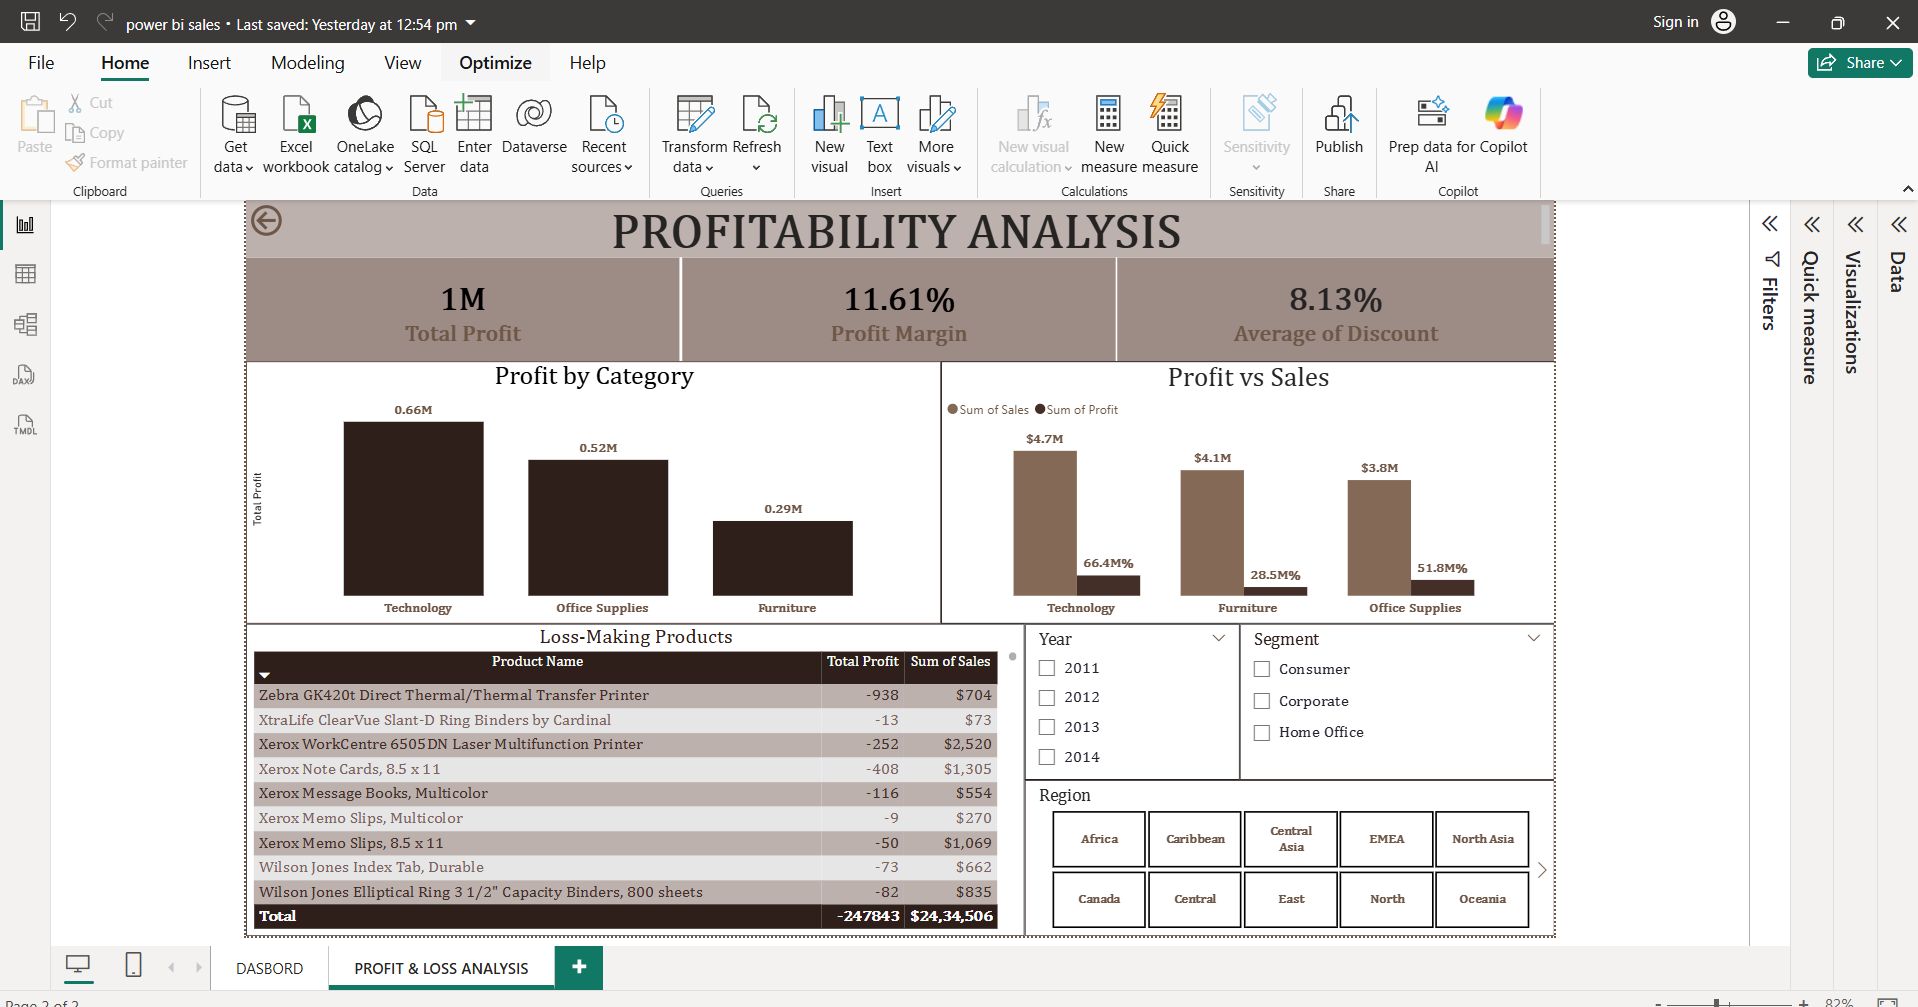

The dashboard page shown, as its layout file describes it:
{"tool":"powerbi","page":{"name":"PROFIT & LOSS ANALYSIS","canvas":[1280,720],"ordinal":1},"visuals":[{"type":"textbox","box":[0,0,1280.3,56.3],"z":0},{"type":"card","fields":{"Values":["Super_store.Total Profit"]},"box":[0,56.3,424.3,101.5],"z":1000},{"type":"card","fields":{"Values":["Super_store.Profit Margin"]},"box":[426.8,56.3,424.3,101.5],"z":2000},{"type":"card","fields":{"Values":["Avg(Super_store.Discount)"]},"box":[852.3,56.3,428,101.5],"z":3000},{"type":"columnChart","title":" Profit by Category","fields":{"Category":["Super_store.Category"],"Y":["Super_store.Total Profit"]},"box":[0,157.7,679.9,256.8],"z":4000},{"type":"clusteredColumnChart","title":"Profit vs Sales","fields":{"Category":["Super_store.Category"],"Y":["Sum(Super_store.Sales)","Sum(Super_store.Profit)"]},"box":[679.9,157.7,600.4,256.8],"z":5000},{"type":"tableEx","title":"Loss-Making Products","fields":{"Values":["Super_store.Product_Name","Super_store.Total Profit","Sum(Super_store.Sales)","select"]},"box":[0,414.5,761.8,305.7],"z":6000},{"type":"actionButton","box":[0,0,100,40],"z":7000},{"type":"slicer","fields":{"Values":["Super_store.Year"]},"box":[761.8,414.5,210.3,152.9],"z":8000},{"type":"slicer","fields":{"Values":["Super_store.Region"]},"box":[761.8,567.4,518.5,152.9],"z":9000},{"type":"slicer","fields":{"Values":["Super_store.Segment"]},"box":[972.2,414.5,308.2,152.9],"z":10000}]}

Visuals, with their boxes on the page's 1280x720 design canvas (x1, y1, x2, y2). These are canvas units, not pixel positions in the 1918x1007 screenshot, which may show the page scaled, cropped or inside an application window:
textbox: locate(0, 0, 1280, 56)
card - Super_store.Total Profit: locate(0, 56, 424, 158)
card - Super_store.Profit Margin: locate(427, 56, 851, 158)
card - Avg(Super_store.Discount): locate(852, 56, 1280, 158)
" Profit by Category" columnChart: locate(0, 158, 680, 414)
"Profit vs Sales" clusteredColumnChart: locate(680, 158, 1280, 414)
"Loss-Making Products" tableEx: locate(0, 414, 762, 720)
actionButton: locate(0, 0, 100, 40)
slicer - Super_store.Year: locate(762, 414, 972, 567)
slicer - Super_store.Region: locate(762, 567, 1280, 720)
slicer - Super_store.Segment: locate(972, 414, 1280, 567)
